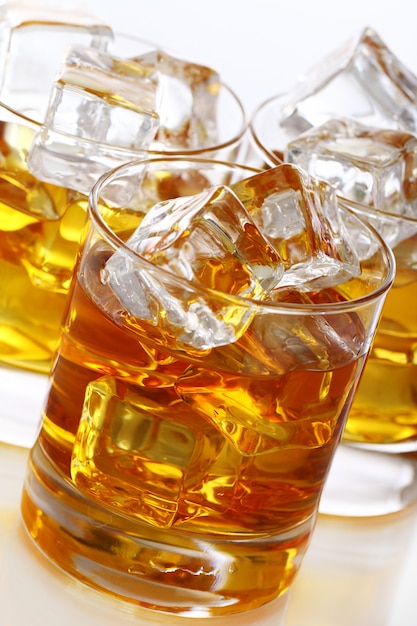alcohol: (19, 127, 400, 618), (0, 17, 246, 456), (252, 24, 417, 518)
